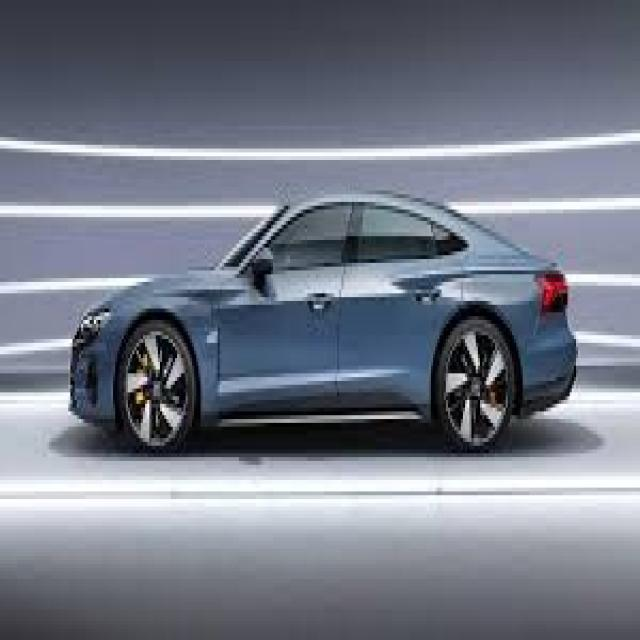blue: (69, 192, 578, 454)
